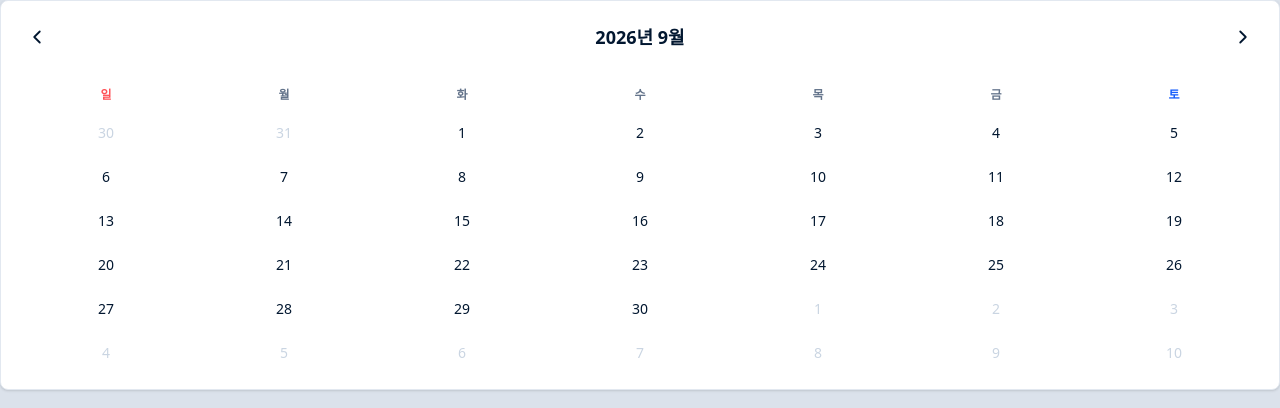
Test: Calendar › 이전 달과 다음 달로 이동한다
Expected: the heading "2026년 9월" is shown, 595,23 -> 685,51
Click the button named "다음 달": (1243, 37) 1223,17 -> 1263,57
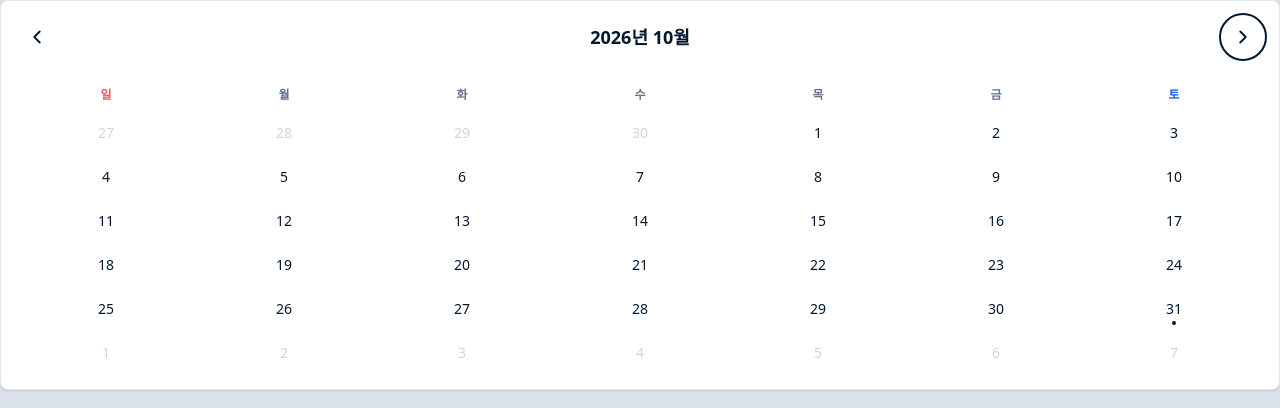
Expected: the heading "2026년 10월" is shown, 590,23 -> 690,51
Click the button named "이전 달": (37, 37) 17,17 -> 57,57
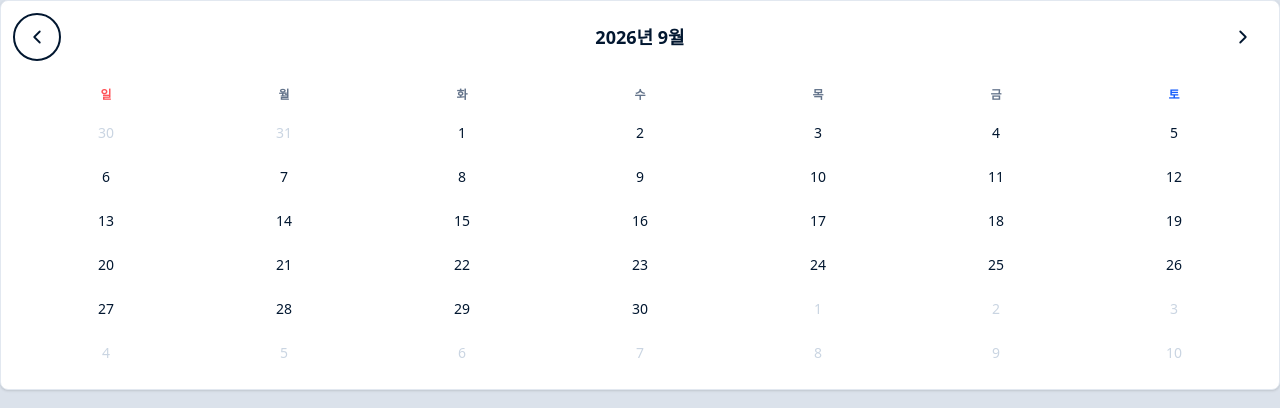
Expected: the heading "2026년 9월" is shown, 595,23 -> 685,51
